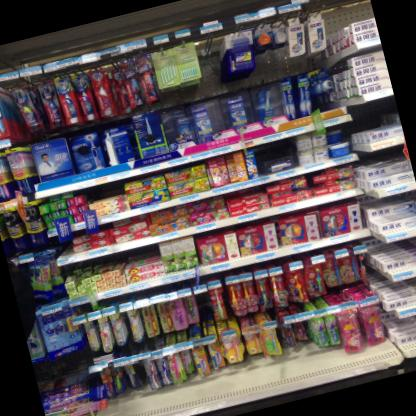empty_space: (198, 28, 225, 82)
